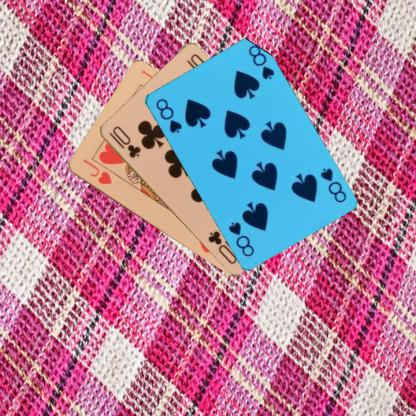10c: (106, 123, 142, 160)
8s: (152, 95, 182, 135), (317, 165, 347, 205)
Jh: (80, 156, 113, 186)
